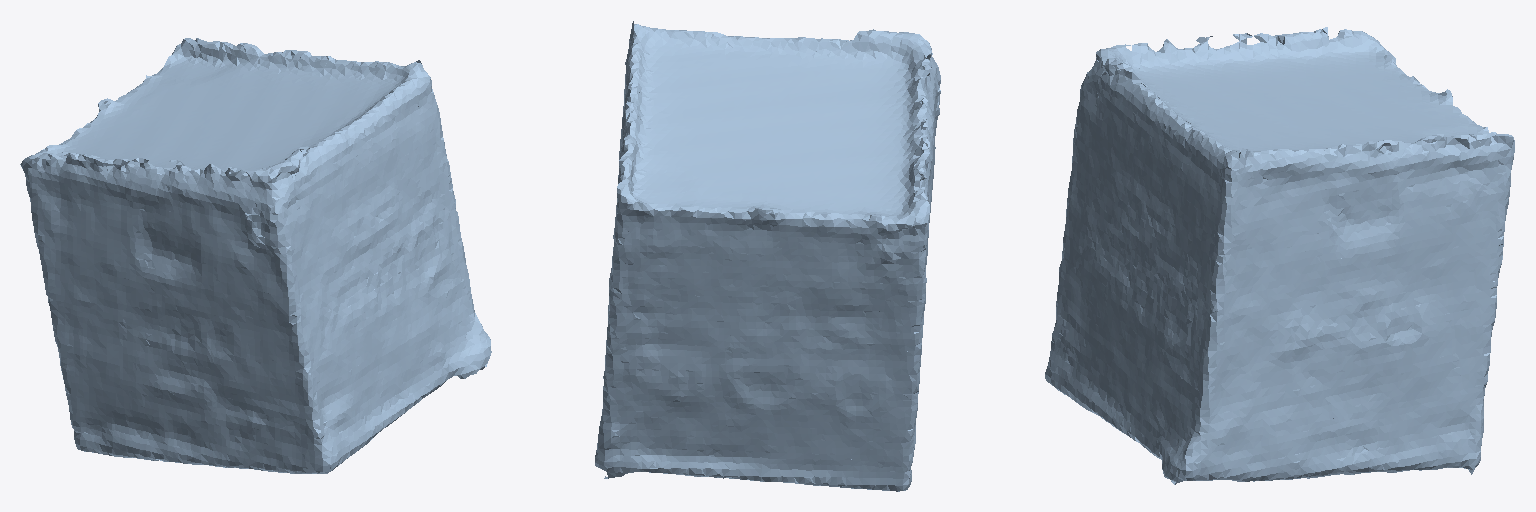
robot.urdf — largebox:
<?xml version="1.0" ?>
<robot name="largebox">
  <dynamics damping="0.5" friction="0.9"/>
  <link name="largebox_link">
    <inertial>
      <mass value="0.1"/>
      <origin xyz="0 0 0"/>
      <inertia ixx="0.002" ixy="0" ixz="0" iyy="0.002" iyz="0" izz="0.002"/>
    </inertial>
    <contact>
      <lateral_friction value="0.9"/>
      <rolling_friction value="0.5"/>
      <stiffness value="30000"/>
      <damping value="1000"/>
    </contact>
    <visual>
      <origin rpy="0 0 0" xyz="0 0 0"/>
      <geometry>
        <mesh filename="largebox.obj" scale="1.0 1.0 1.0"/>
      </geometry>
       <material name="mat">
        <color rgba="0.7 0.8 0.9 0.7"/>
      </material>
    </visual>
    <collision name="largebox">
      <origin rpy="0 0 0" xyz="0 0 0"/>
      <geometry>
        <mesh filename="largebox.obj" scale="1.0 1.0 1.0"/>
      </geometry>
    </collision>
  </link>
</robot>

--- Facts derived from the render (not from the file) ---
The picture shows the robot from 3 angles, left to right: view 1: azimuth 30°, elevation 25°; view 2: azimuth 150°, elevation 25°; view 3: azimuth 270°, elevation 25°; orthographic projection.
Robot: largebox — 1 links, 0 joints (none); root link largebox_link; default pose: every joint at zero.
Links seen in each view (by area): view 1: largebox_link; view 2: largebox_link; view 3: largebox_link.
Boxes of the visible links, x1,y1,x2,y2 form: largebox_link: (20, 38, 491, 473); largebox_link: (595, 21, 940, 491); largebox_link: (1045, 27, 1514, 484).
Bounding box of the posed robot: 0.4712 × 0.4587 × 0.4079 m (x, y, z).
Meshes: 1 distinct files referenced, 1 mesh visuals loaded (1 OBJ).
